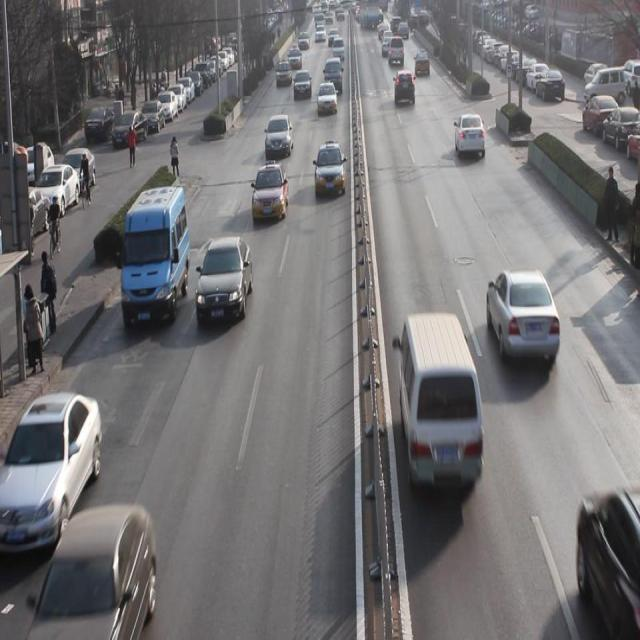car: (27, 515, 161, 640), (1, 391, 102, 542), (578, 492, 640, 622), (487, 265, 562, 370), (196, 238, 253, 325), (249, 162, 288, 226), (314, 141, 346, 204), (455, 114, 487, 158), (264, 114, 294, 160), (316, 84, 338, 119), (394, 72, 416, 106), (292, 70, 312, 102), (275, 58, 292, 90), (286, 46, 302, 69)
truck: (396, 316, 487, 494), (124, 188, 190, 326), (321, 58, 345, 96)
